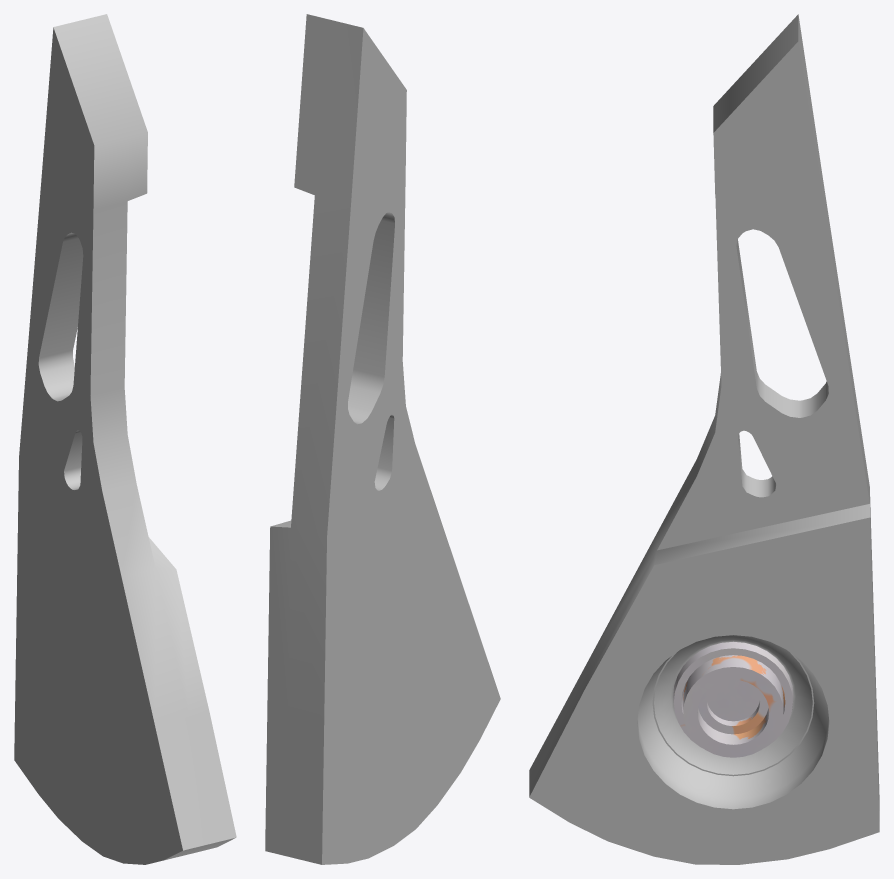
File: HD_Reader.fbx
3 renders of one model, left to right at view 1: azimuth 30°, elevation 25°; view 2: azimuth 150°, elevation 25°; view 3: azimuth 270°, elevation 25°, orthographic. The views are drawn at different scales.
Visible parts, largest first — view 1: HD_Reader; view 2: HD_Reader; view 3: HD_Reader.
Boxes of the visible parts, <box> form: HD_Reader: <box>14,14,236,864</box>; HD_Reader: <box>265,14,500,864</box>; HD_Reader: <box>529,14,879,864</box>.
Bounding box in the file's own units: 21.6 × 305 × 118.
